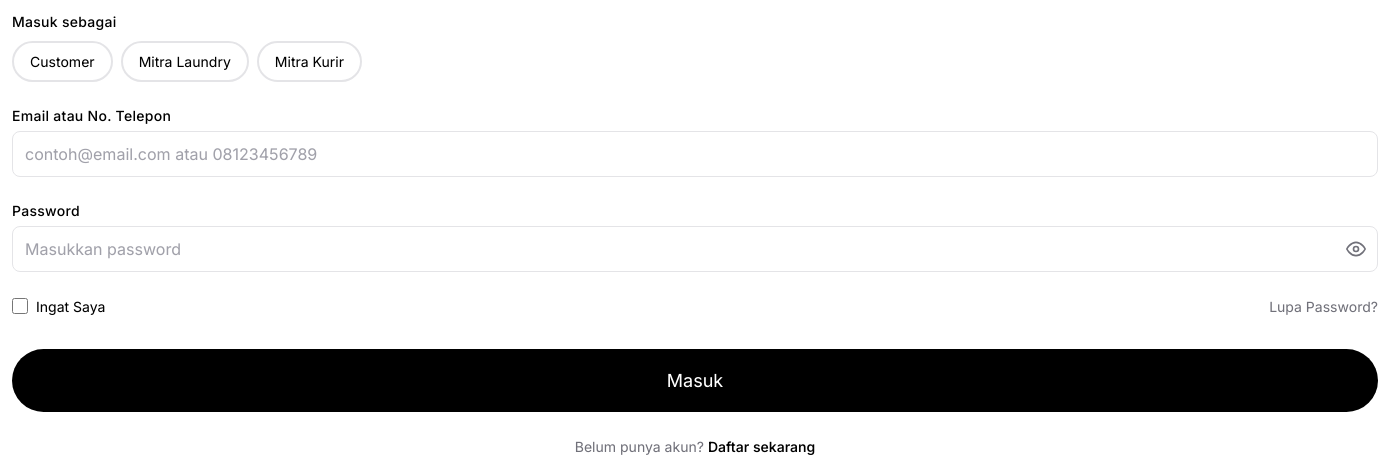
LoginForm › role selection › shows 'Masuk sebagai Mitra Kurir' when driver is selected
Click the button "Mitra Kurir" at (309, 61), box [257,41,362,82]
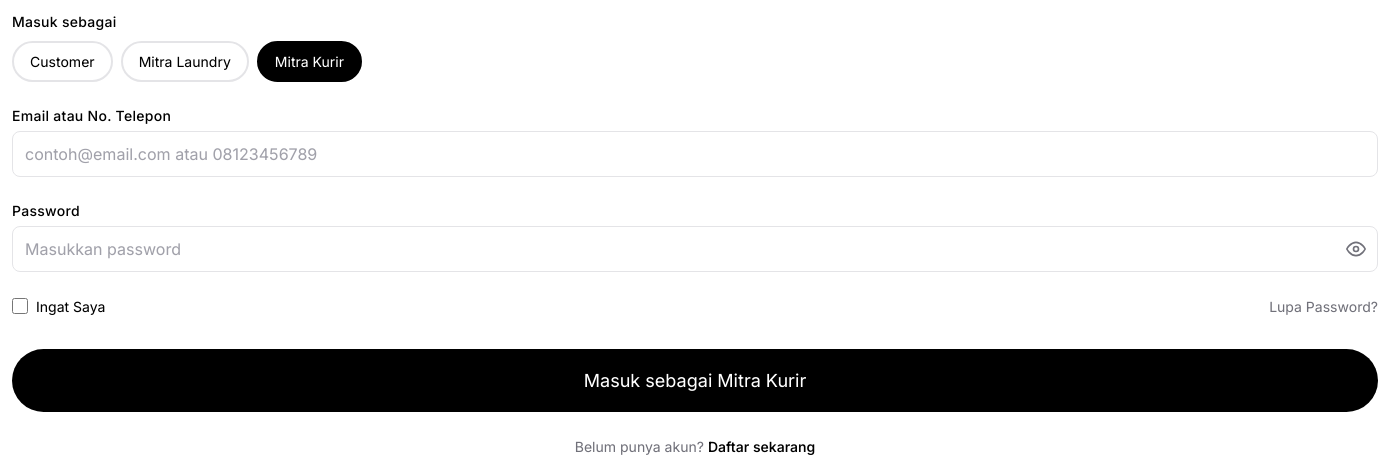
Result: the button "Masuk sebagai Mitra Kurir" is shown at [12,349,1378,412]
